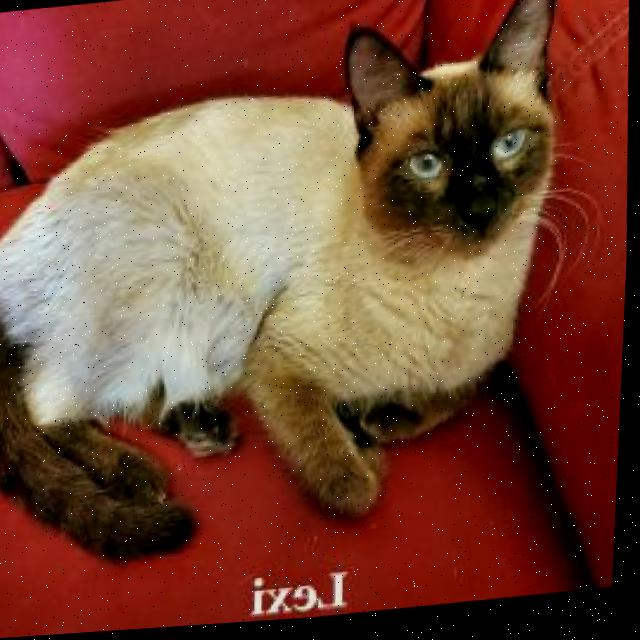Siamese: (0, 0, 584, 579)
